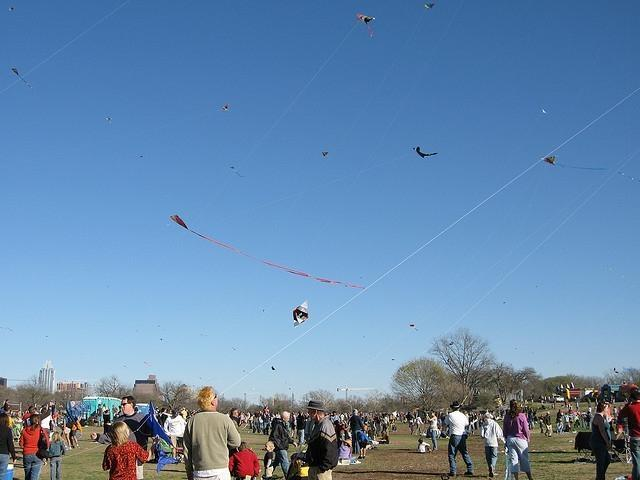car: (550, 395, 564, 402)
